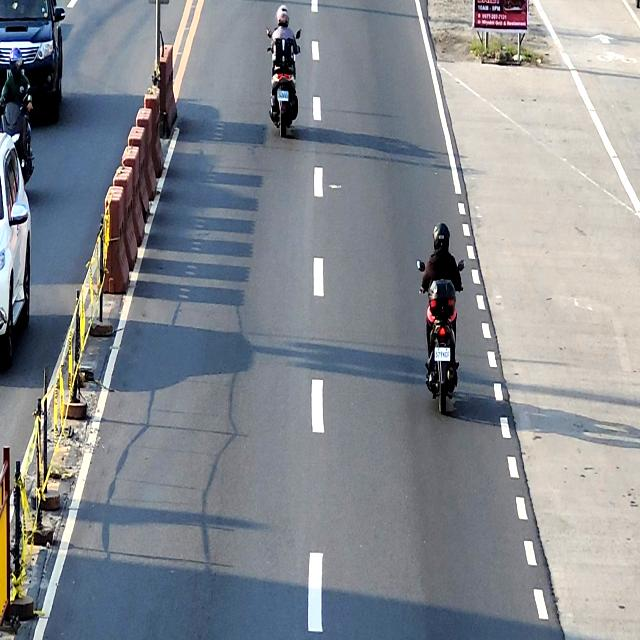Car: (0, 0, 66, 117), (0, 132, 31, 364)
License-Plate: (434, 346, 450, 361), (277, 90, 289, 101)
Motorcycle: (415, 259, 466, 413), (266, 26, 302, 136), (0, 85, 33, 188)
